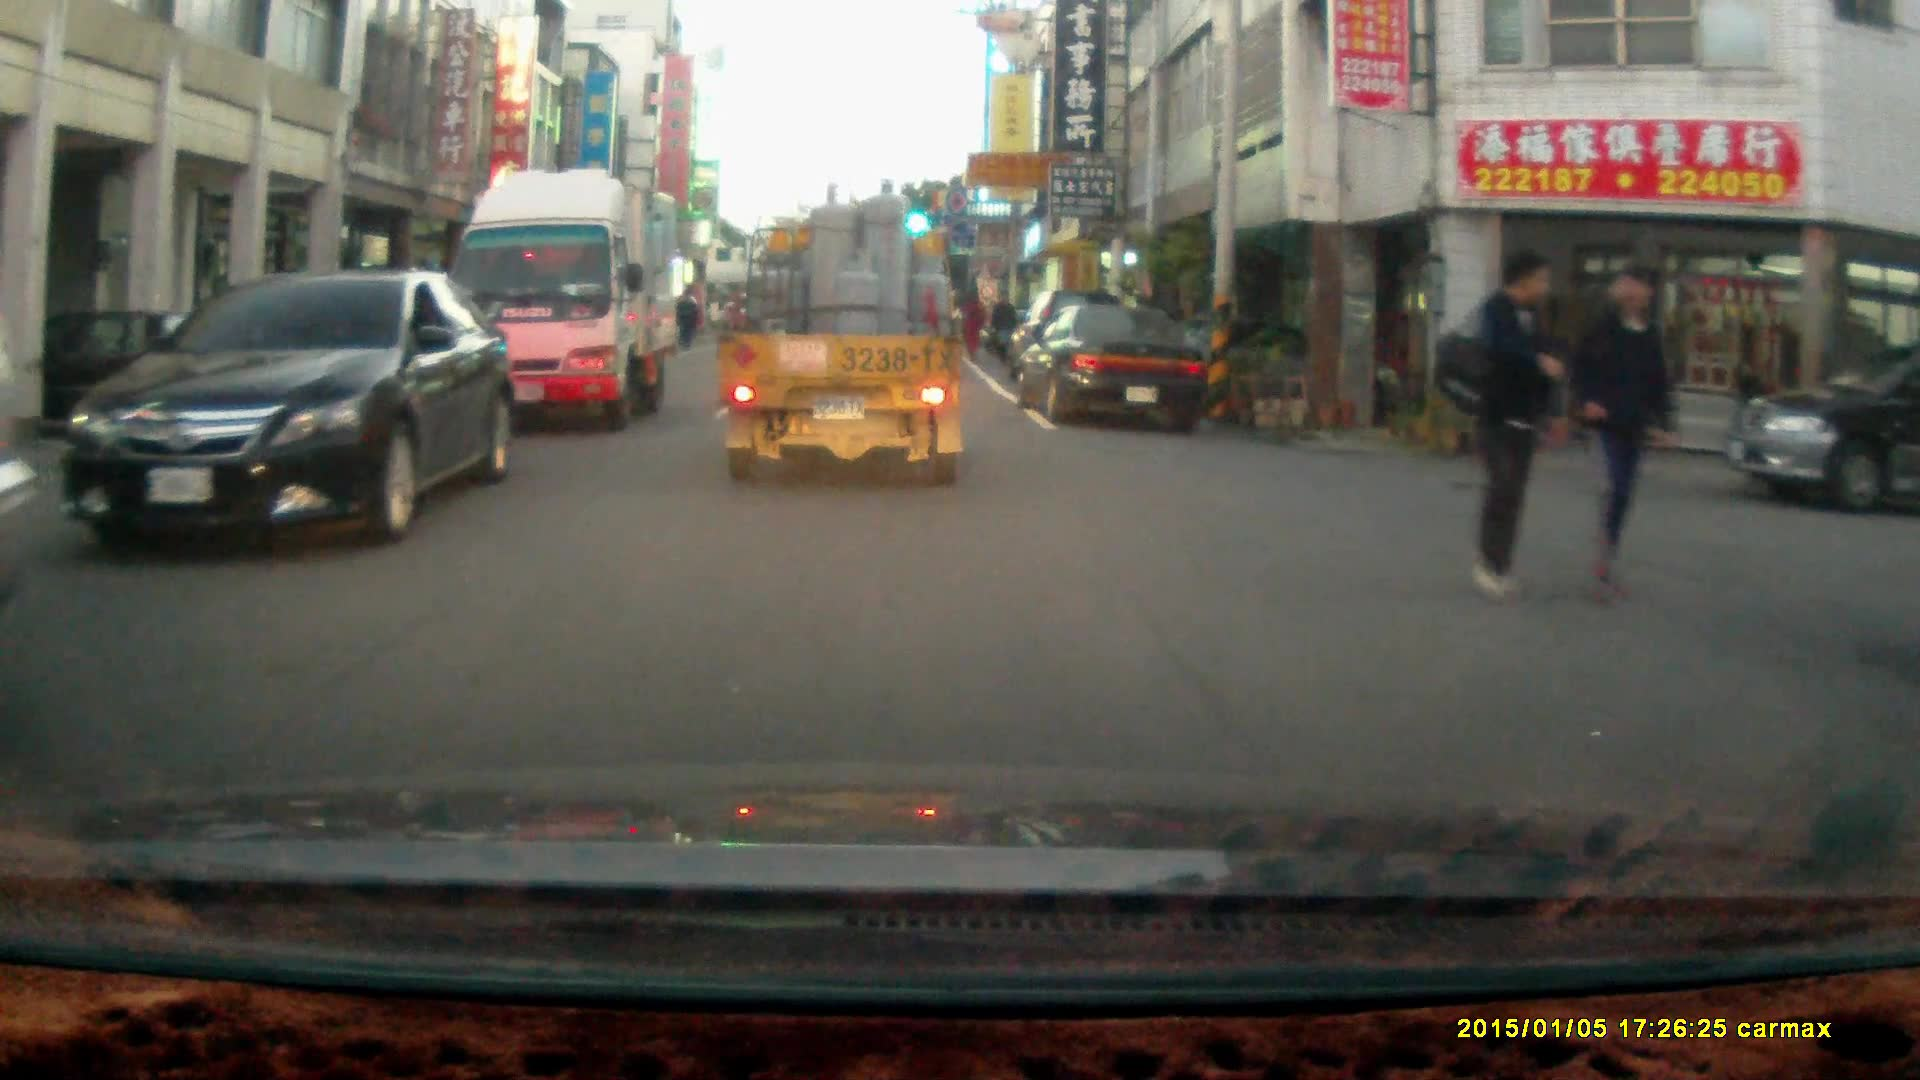pedestrian: (1567, 260, 1678, 610), (1460, 250, 1556, 601), (987, 287, 1017, 366), (960, 285, 987, 359), (668, 289, 698, 350)
vehicle: (55, 266, 511, 548), (723, 174, 969, 487), (447, 166, 680, 433), (1017, 303, 1212, 426)
